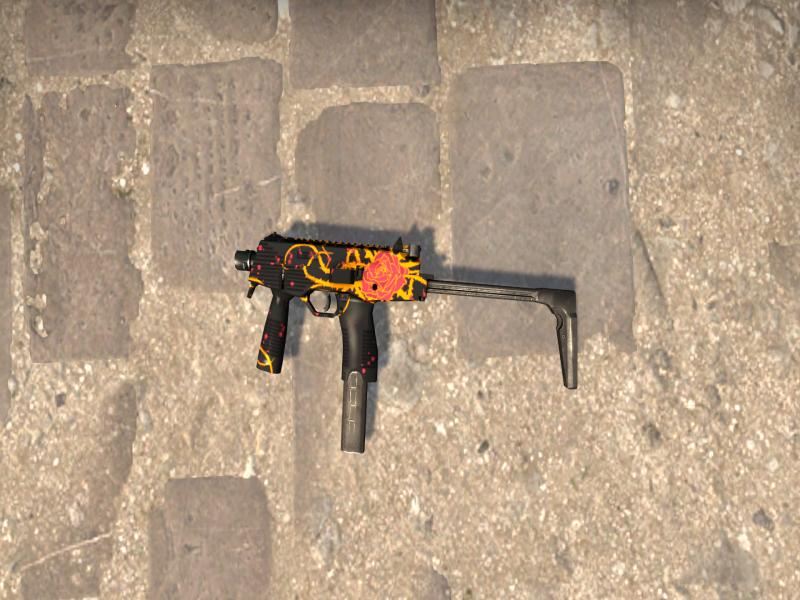MP9: (235, 232, 578, 452)
